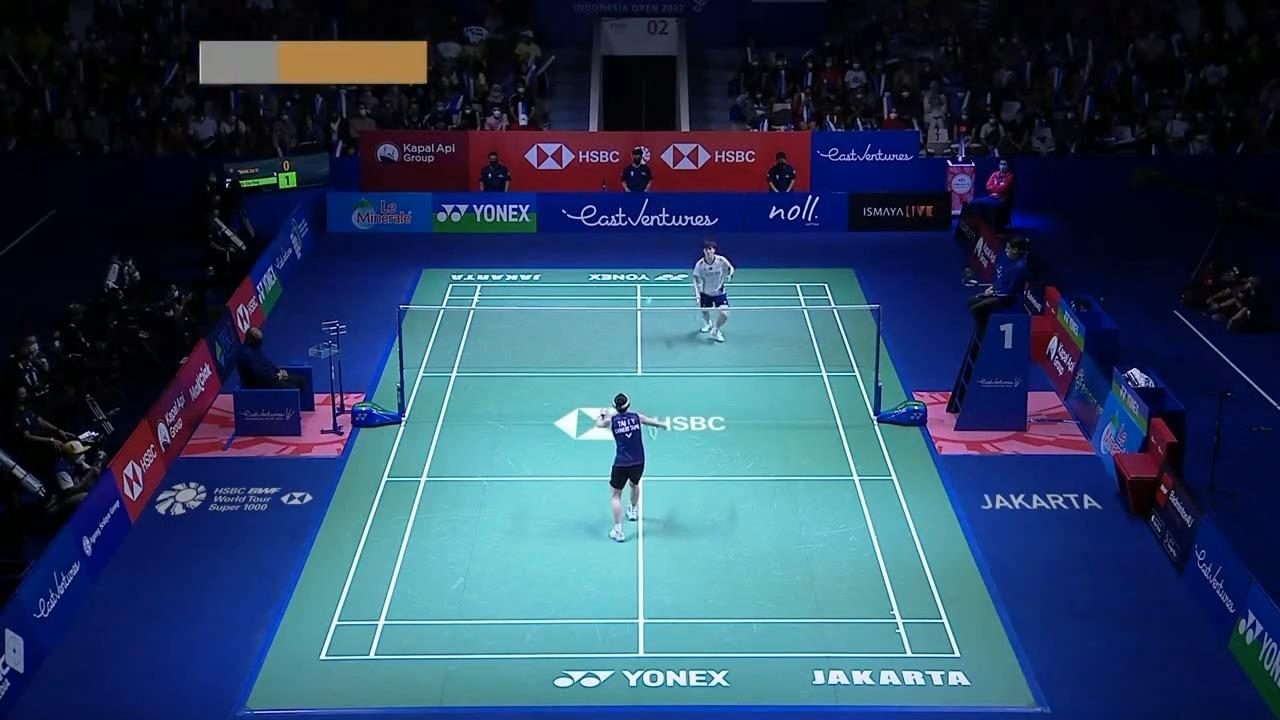shuttle: (645, 295, 654, 307)
